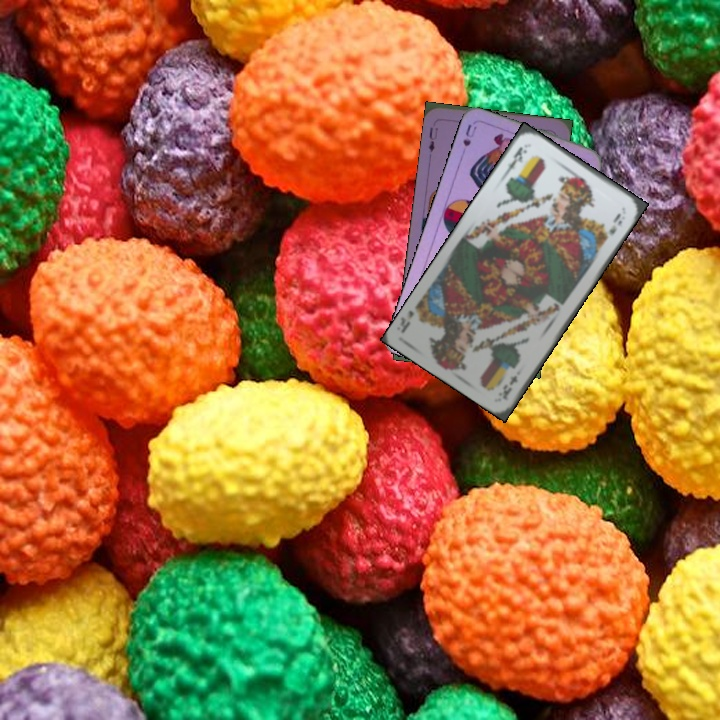EK: (500, 143, 530, 177), (498, 371, 520, 403)
EU: (425, 123, 440, 158)
SU: (459, 120, 479, 149)
